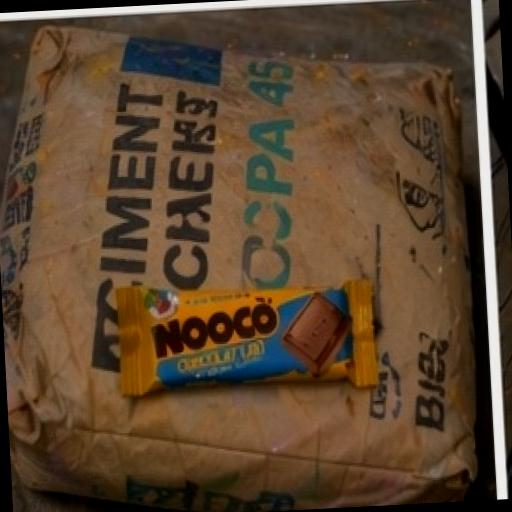nooco: (94, 237, 417, 445)
